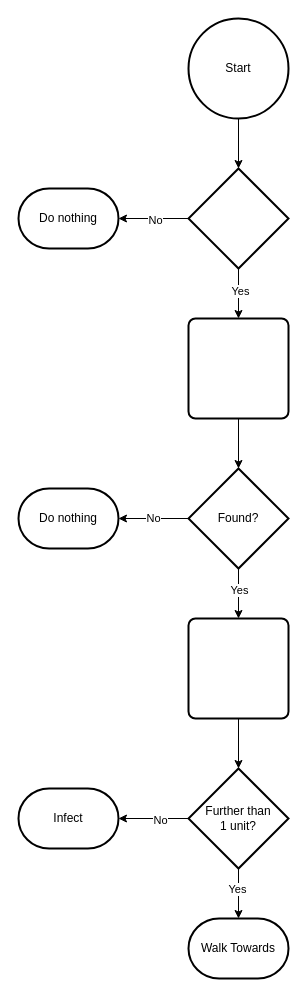
The diagram is 306 pixels wide and 996 high, and some of its shapes have lost their labels. The shapes that lost their labels are listed below. From the top down, each one's box as (x1, y1, x2, y2) in pixels, then its label:
(187, 167, 289, 269): Infected?
(187, 317, 289, 419): Find nearest visible untouched agent
(187, 617, 289, 719): Calculate distance
